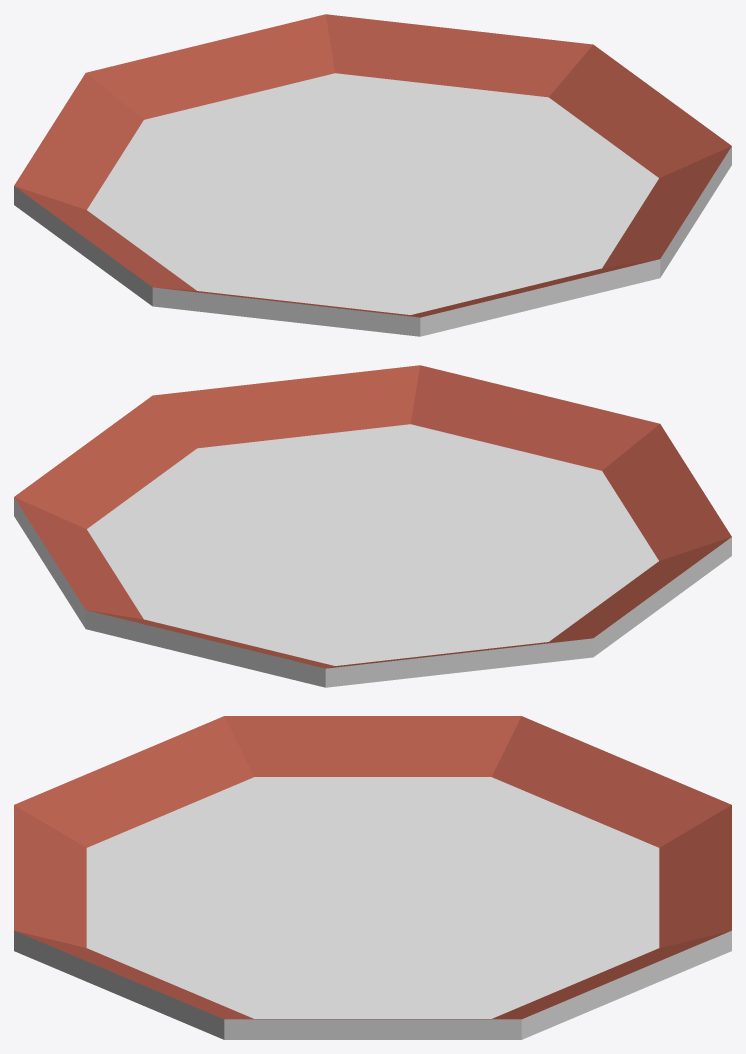
The model's file is Plate3_C3.fbx.
3 views of the same model, one above another, from view 1: azimuth 30°, elevation 25°; view 2: azimuth 150°, elevation 25°; view 3: azimuth 270°, elevation 25° (orthographic). The views are drawn at different scales.
Parts seen in each view (by area): view 1: Plate3_C3; view 2: Plate3_C3; view 3: Plate3_C3.
Boxes of the visible parts, <box> form: Plate3_C3: <box>14,14,731,336</box>; Plate3_C3: <box>14,365,731,687</box>; Plate3_C3: <box>14,716,731,1039</box>.
Size of the model in its own units: 24.17 by 1.89 by 24.17.
